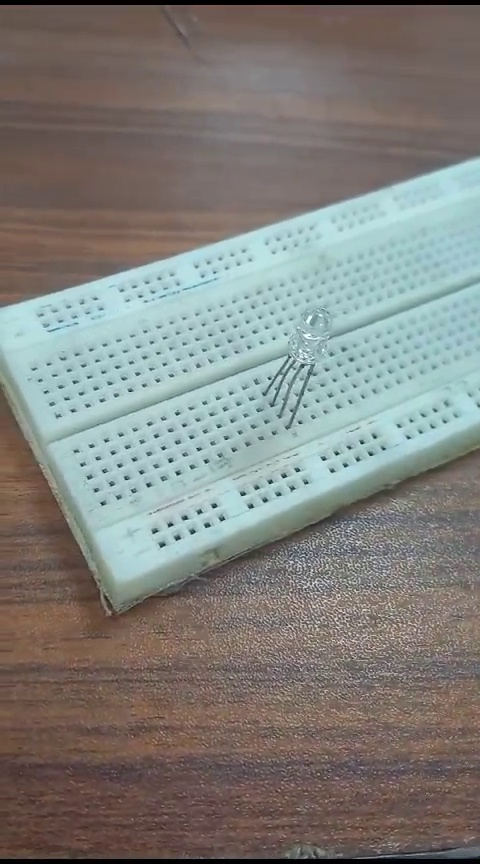LED: (251, 303, 332, 420)
